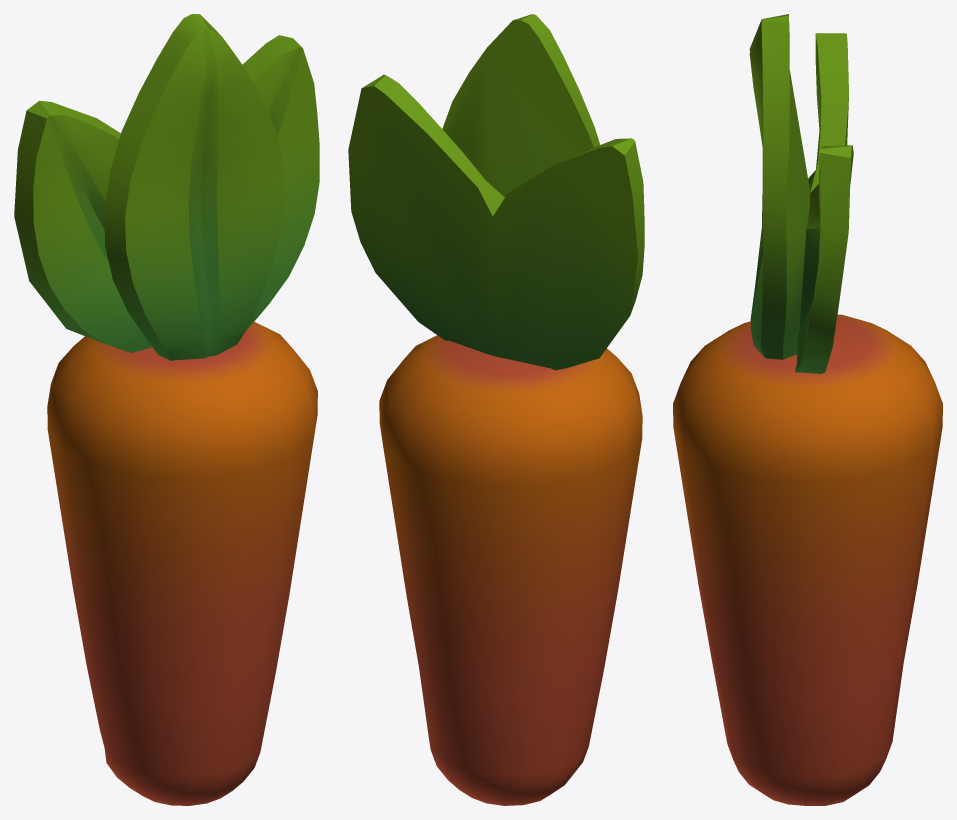
The model's file is Carrot.fbx.
3 renders of one model, left to right at view 1: azimuth 30°, elevation 25°; view 2: azimuth 150°, elevation 25°; view 3: azimuth 270°, elevation 25°, orthographic. The views are drawn at different scales.
Visible parts, largest first — view 1: Carrot; view 2: Carrot; view 3: Carrot.
Part boxes in pixels (x1=…): Carrot: x1=14, y1=14, x2=319, y2=805; Carrot: x1=348, y1=14, x2=644, y2=805; Carrot: x1=673, y1=14, x2=942, y2=805.
Bounding box in the file's own units: 21.37 × 54.16 × 16.96.
